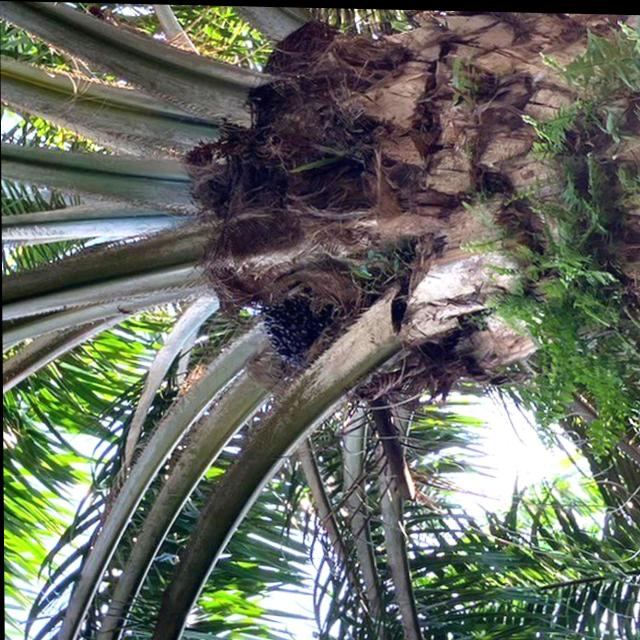almost: (248, 287, 350, 378)
